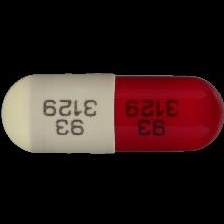42291-235: (0, 0, 224, 224)
